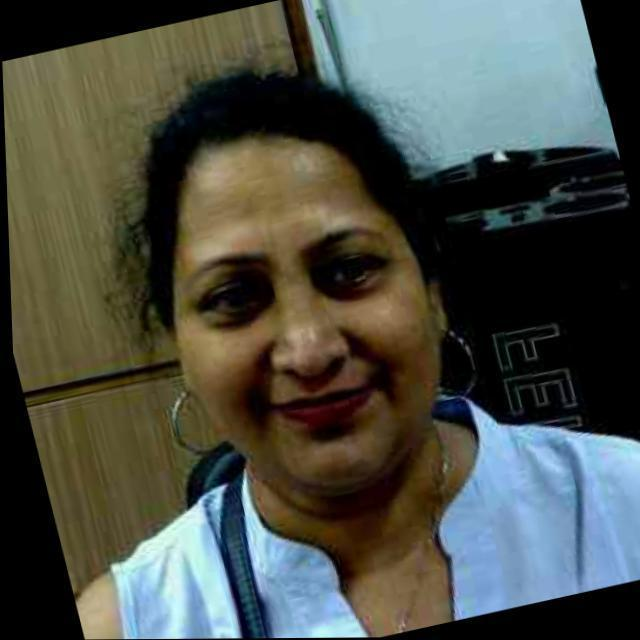puffy_eyes: (307, 272, 389, 302), (197, 298, 270, 329)
